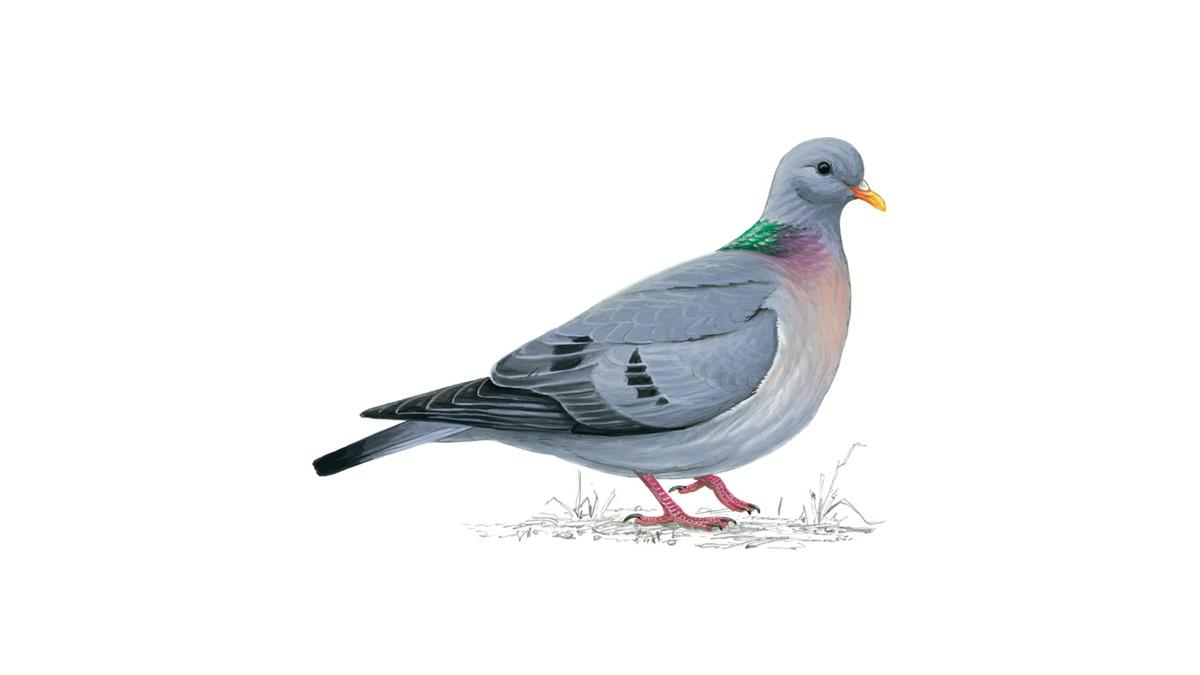Flying Rat: (306, 134, 886, 532)
